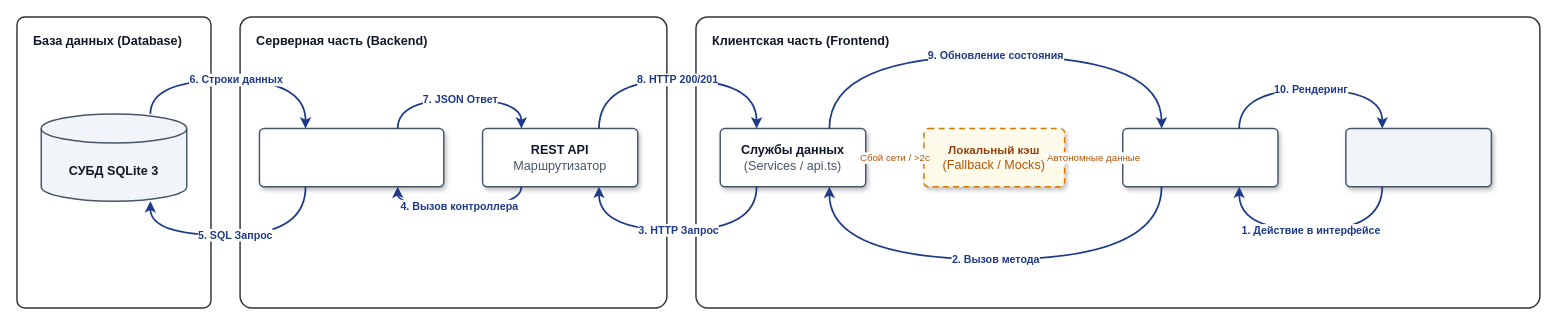
This 1558x326 diagram has some shape labels left out. The shapes that lost their labels are listed below. From the top down, each one's centre as x and y in pixels, then its label:
At [352,158]: "Контроллеры (Flights, Airports, Auth)".
At [1201,158]: "Интерфейс React SPA".
At [1419,158]: "Пользователь".
